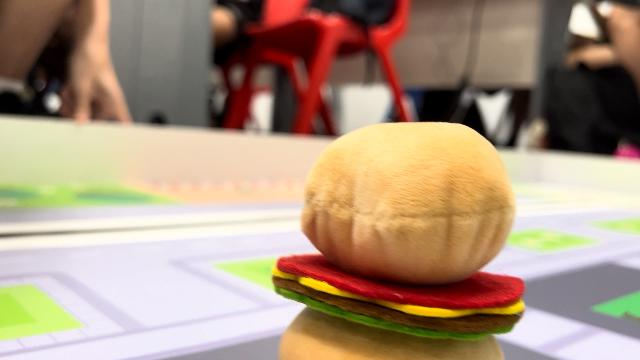burger: (274, 120, 524, 360)
